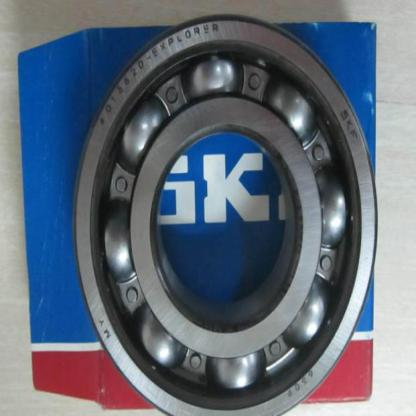FOD: (69, 10, 382, 415)
